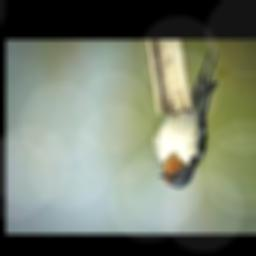Swallow: (152, 48, 220, 187)
